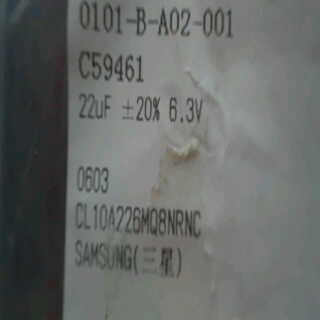22uF: (73, 89, 118, 120)
